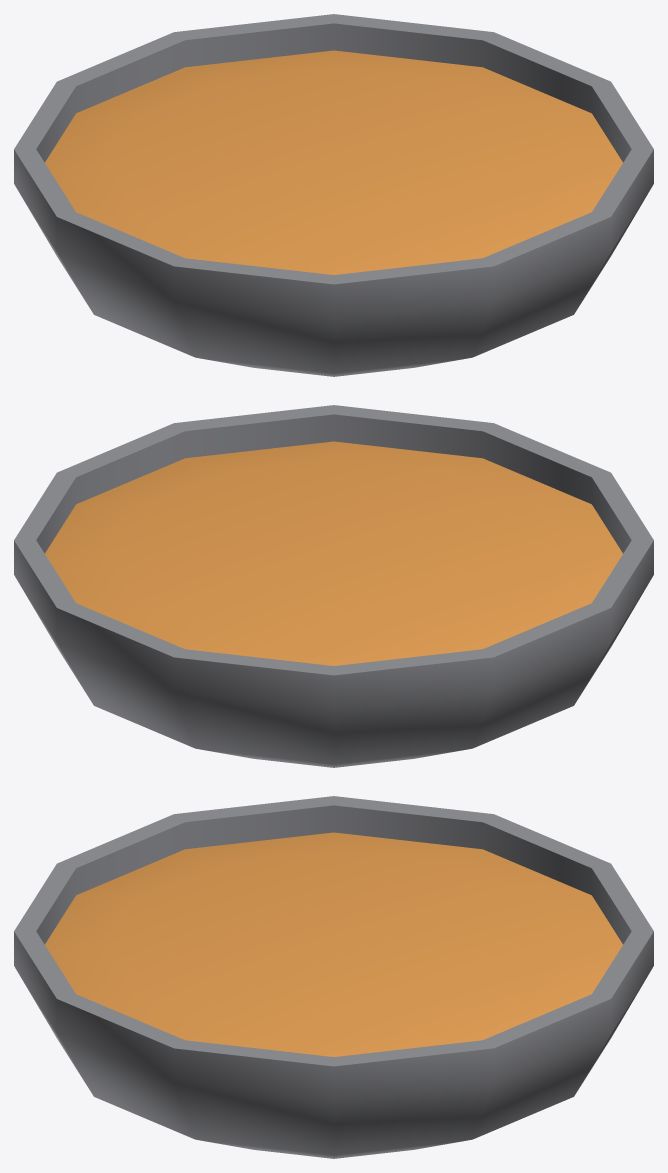
Rendered from Soup.fbx.
3 renders of one model, top to bottom at view 1: azimuth 30°, elevation 25°; view 2: azimuth 150°, elevation 25°; view 3: azimuth 270°, elevation 25°, orthographic.
Parts seen in each view (by area): view 1: Sphere; view 2: Sphere; view 3: Sphere.
Boxes of the visible parts, box(x1,y1,x2,y2) form: Sphere: box(14, 14, 653, 376); Sphere: box(14, 405, 653, 767); Sphere: box(14, 796, 653, 1158).
Size of the model in its own units: 200 by 55.19 by 200.
